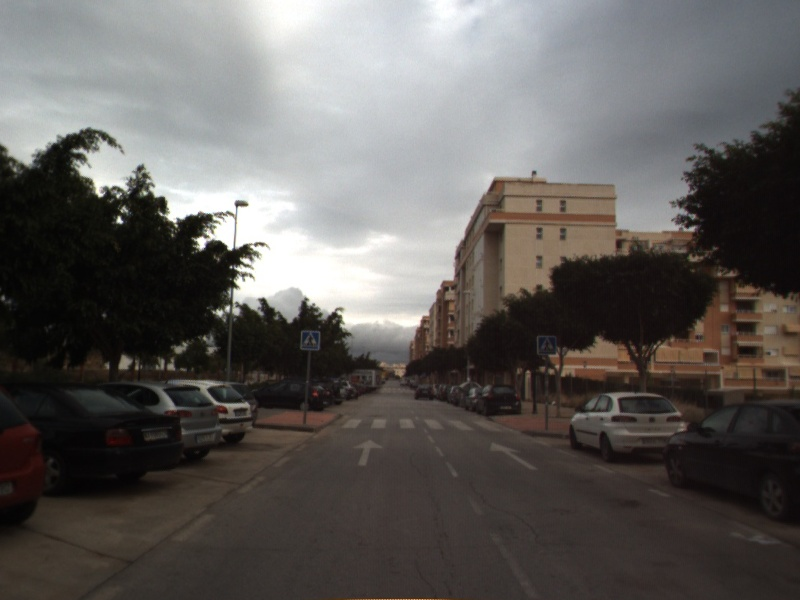STRAIGHT: (487, 440, 540, 472), (351, 437, 385, 467)
